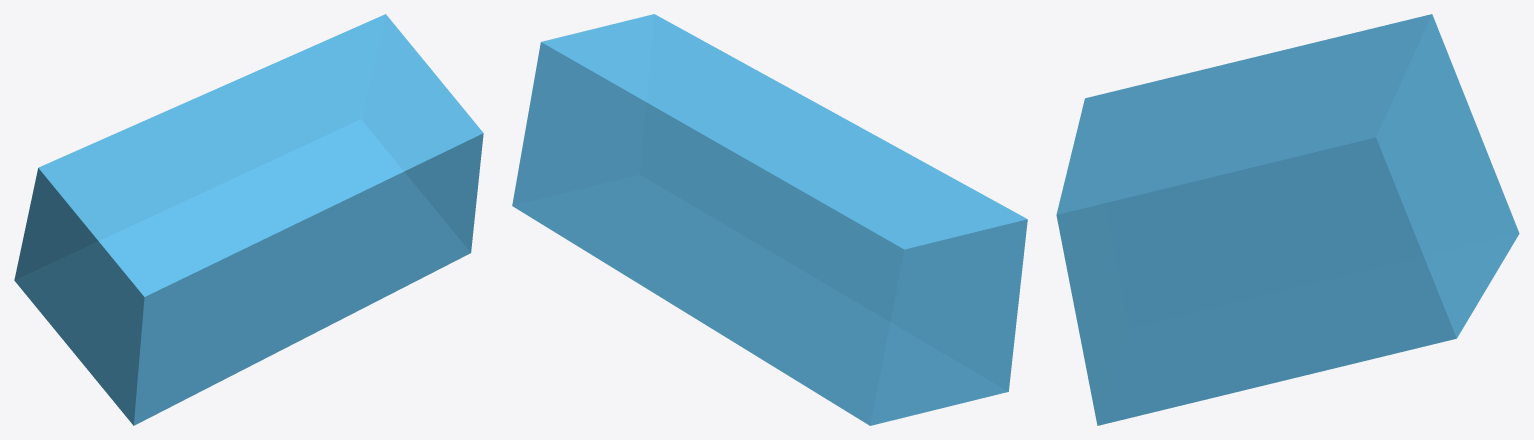
The model's file is Event_420107950_HErechit_50.fbx.
The picture shows the model from 3 angles, left to right: view 1: azimuth 30°, elevation 25°; view 2: azimuth 150°, elevation 25°; view 3: azimuth 270°, elevation 25°; orthographic projection. The views are drawn at different scales.
Visible parts, largest first — view 1: Model; view 2: Model; view 3: Model.
Boxes of the visible parts, bbox=[...] form: Model: bbox=[14, 14, 483, 425]; Model: bbox=[512, 14, 1027, 425]; Model: bbox=[1056, 14, 1519, 425].
Bounding box in the file's own units: 0.9591 × 0.7678 × 0.7128.
